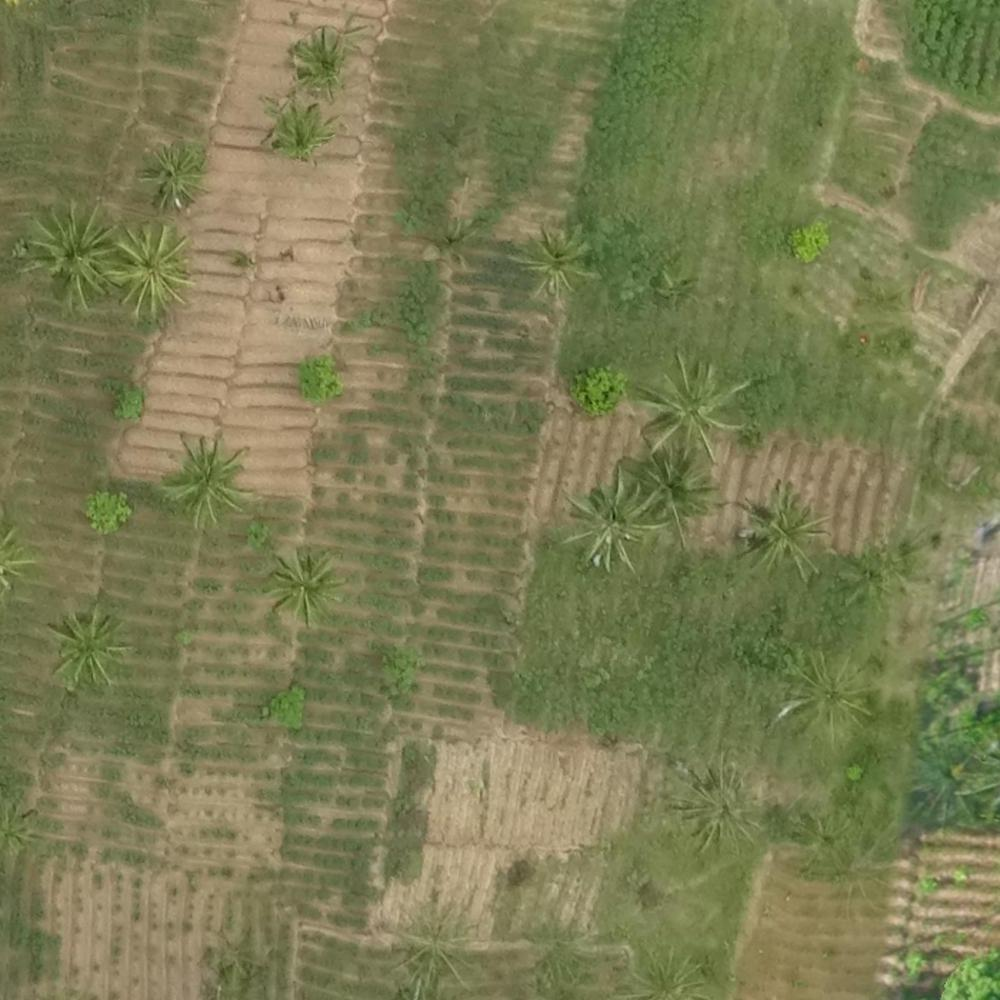Palm: (642, 354, 746, 450), (24, 205, 119, 309), (564, 474, 652, 567), (162, 433, 251, 522), (630, 442, 716, 531), (740, 482, 821, 575), (114, 223, 192, 315), (669, 766, 751, 851), (51, 607, 131, 686), (264, 546, 346, 622), (514, 222, 586, 295), (140, 144, 204, 209), (268, 104, 333, 164), (290, 30, 350, 92)
